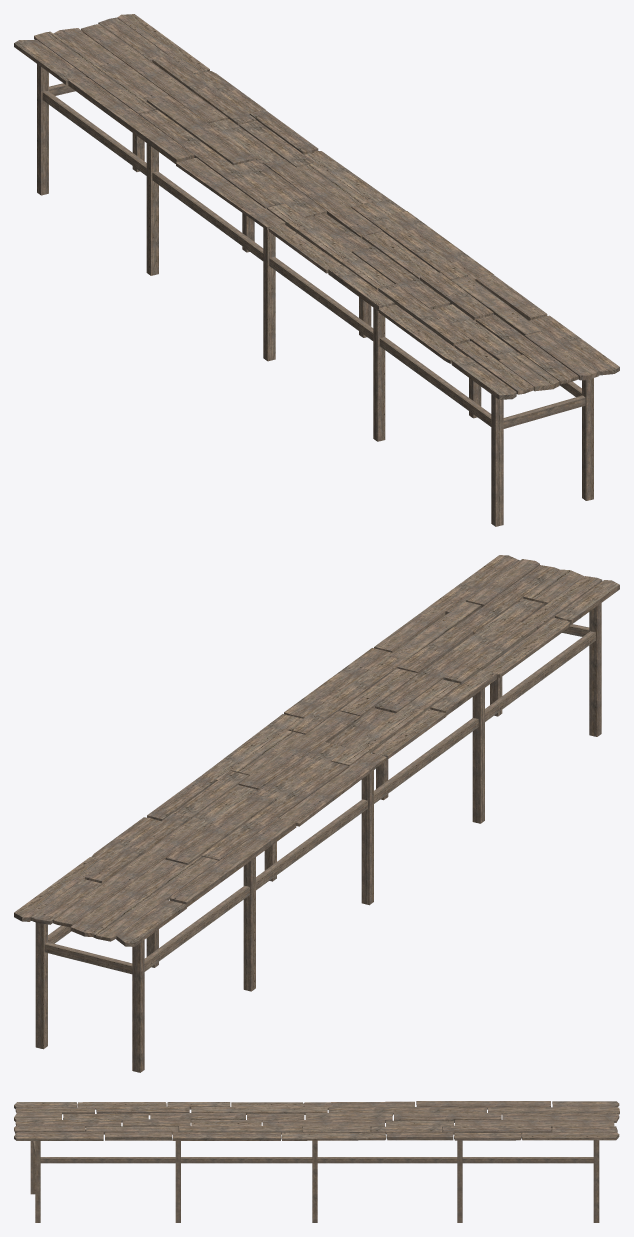
The model's file is Prop_Mq01_lod1.glb.
3 views of the same model, one above another, from view 1: azimuth 30°, elevation 25°; view 2: azimuth 150°, elevation 25°; view 3: azimuth 270°, elevation 25° (orthographic). The views are drawn at different scales.
Parts seen in each view (by area): view 1: xiutz_mq_01_lod1; view 2: xiutz_mq_01_lod1; view 3: xiutz_mq_01_lod1.
Part boxes in pixels (<box>): xiutz_mq_01_lod1: <box>14,14,619,526</box>; xiutz_mq_01_lod1: <box>14,555,619,1072</box>; xiutz_mq_01_lod1: <box>14,1101,619,1222</box>.
Size of the model in its own units: 3.96 by 4.37 by 27.1.
1 material, 1 textured.
